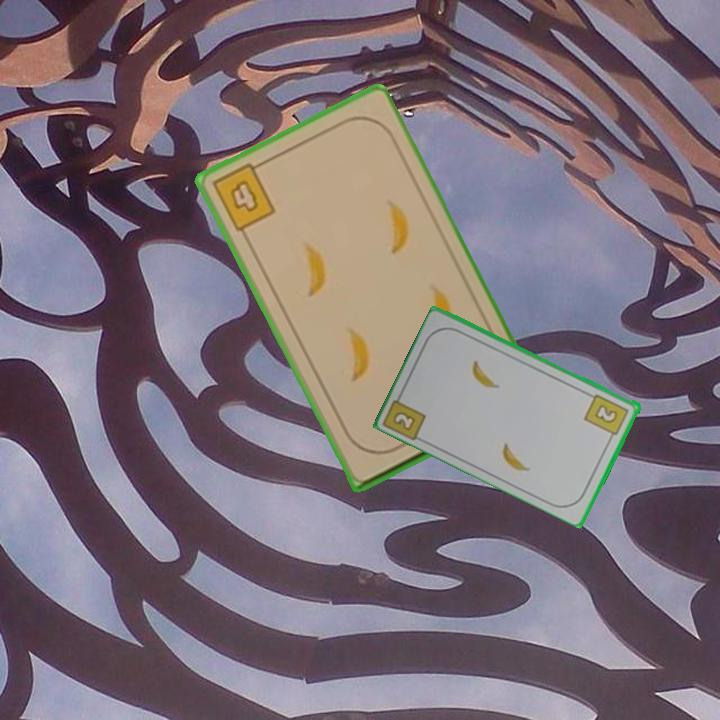2b: (581, 390, 632, 443), (390, 408, 419, 433)
4b: (208, 157, 278, 235)
